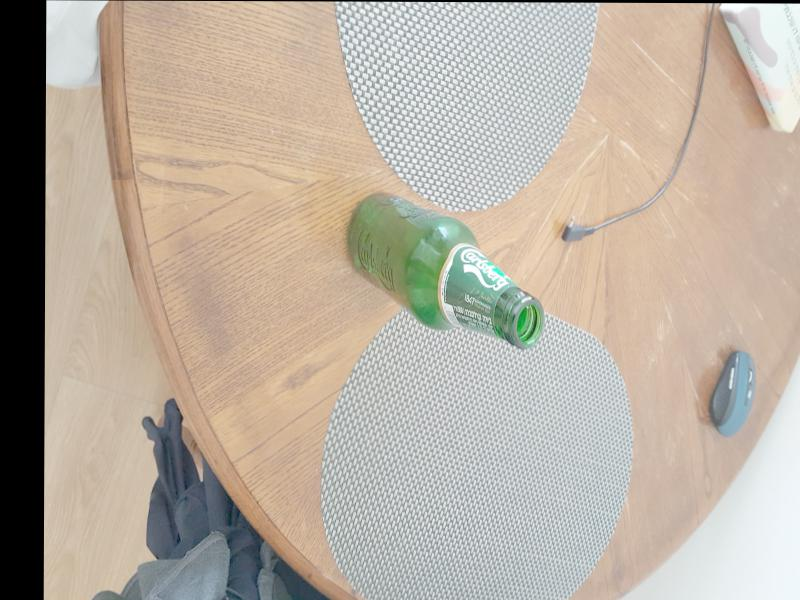Beer: (342, 184, 544, 351)
